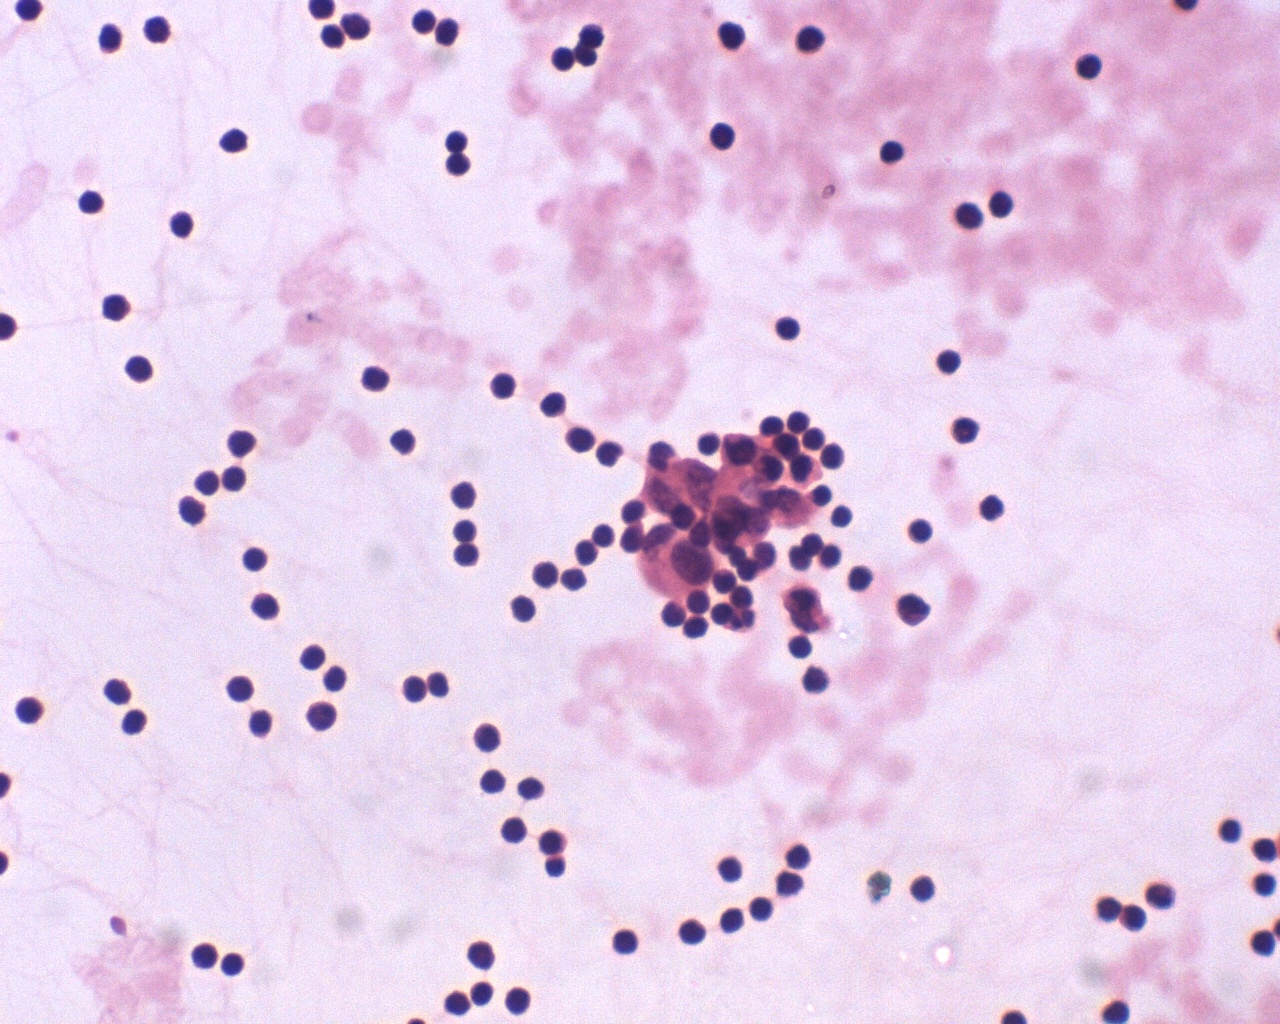lymph: (709, 14, 757, 52), (220, 666, 260, 709), (468, 714, 509, 754), (481, 366, 521, 406), (117, 349, 158, 389), (792, 21, 833, 60), (165, 202, 203, 243), (383, 423, 426, 460), (704, 119, 747, 156), (249, 587, 286, 628), (11, 691, 49, 731), (355, 362, 397, 397), (766, 308, 808, 344), (140, 13, 178, 51), (217, 124, 255, 163), (530, 556, 567, 594), (224, 422, 262, 459), (300, 698, 340, 734), (950, 197, 990, 233), (539, 385, 575, 423), (74, 185, 115, 218), (394, 671, 430, 707), (186, 939, 225, 974), (674, 915, 715, 948), (907, 871, 945, 906), (715, 851, 750, 886), (452, 539, 488, 575), (564, 421, 600, 457), (609, 924, 643, 961), (1212, 813, 1248, 847), (505, 981, 538, 1018), (449, 478, 483, 514), (498, 814, 534, 847), (444, 149, 481, 182), (875, 135, 912, 166), (905, 512, 936, 549), (1075, 50, 1110, 83), (508, 592, 541, 625), (935, 344, 968, 376), (788, 631, 820, 664), (717, 906, 750, 936), (406, 9, 443, 34)
meso: (630, 519, 719, 606)
